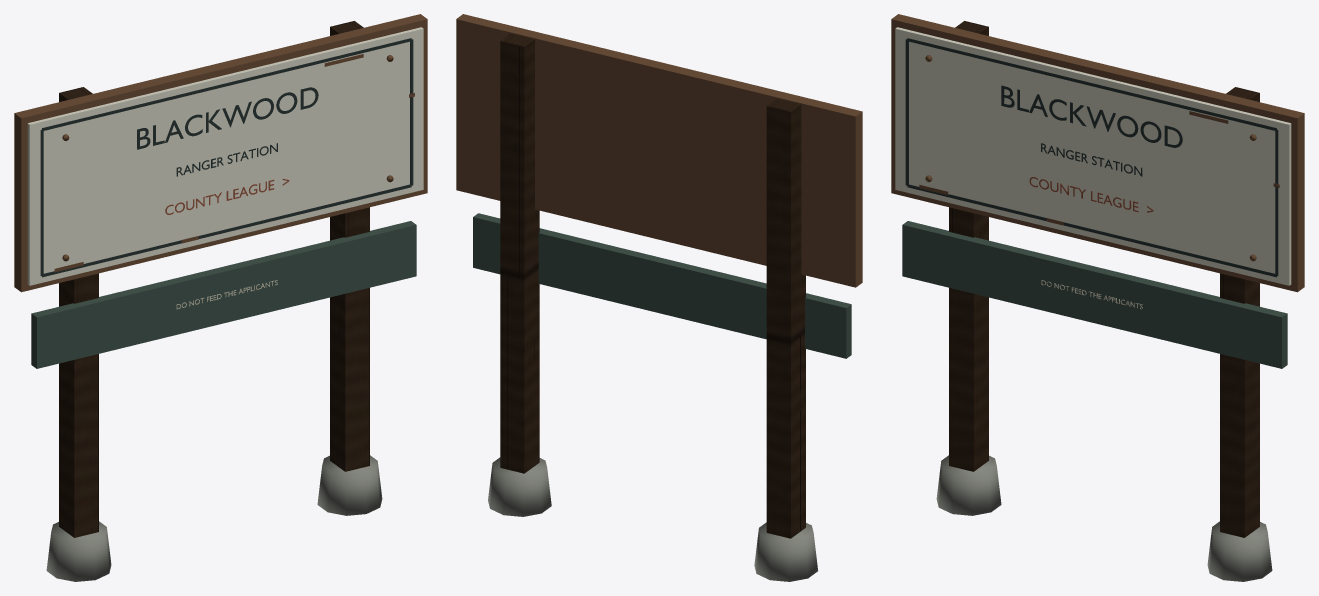
File: waymarker-blackwood.glb
3 views of the same model, side by side, from view 1: azimuth 30°, elevation 25°; view 2: azimuth 150°, elevation 25°; view 3: azimuth 330°, elevation 25° (orthographic).
Parts seen in each view (by area): view 1: Reflective enamel face, Lower regulation plaque, Steel folded sign back, Weathered timber upright, Weathered timber upright.001, Concrete footing.001, Concrete footing, Destination, Printed border.001, Printed border, Printed border.002, Direction (+1 smaller); view 2: Steel folded sign back, Lower regulation plaque, Weathered timber upright, Weathered timber upright.001, Concrete footing.001, Concrete footing; view 3: Reflective enamel face, Lower regulation plaque, Steel folded sign back, Weathered timber upright.001, Weathered timber upright, Concrete footing, Concrete footing.001, Destination, Printed border.001, Printed border, Printed border.002, Printed border.003 (+1 smaller).
Part boxes in pixels (x1,y1,x2,y2): Reflective enamel face: (27,27,423,285); Lower regulation plaque: (31,221,416,368); Steel folded sign back: (14,14,427,292); Weathered timber upright: (59,87,98,537); Weathered timber upright.001: (330,21,369,471); Concrete footing.001: (317,455,382,515); Concrete footing: (46,521,111,581); Destination: (137,87,318,149); Printed border.001: (42,38,411,131); Printed border: (42,184,411,277); Printed border.002: (40,129,43,275); Direction: (165,179,289,214); Steel folded sign back: (456,14,862,287); Lower regulation plaque: (473,213,851,358); Weathered timber upright: (766,98,805,538); Weathered timber upright.001: (500,33,539,473); Concrete footing.001: (488,457,551,516); Concrete footing: (754,522,817,581); Reflective enamel face: (895,27,1291,285); Lower regulation plaque: (902,221,1287,368); Steel folded sign back: (891,14,1304,292); Weathered timber upright.001: (1220,87,1259,537); Weathered timber upright: (949,21,988,471); Concrete footing: (936,455,1001,515); Concrete footing.001: (1207,521,1272,581); Destination: (1001,85,1182,147); Printed border.001: (907,38,1276,131); Printed border: (907,184,1276,277); Printed border.002: (905,39,908,185); Printed border.003: (1275,129,1278,275).
Size of the model in its own units: 1.98 by 2.2 by 0.28.
Materials: 8 (1 with a texture image).
